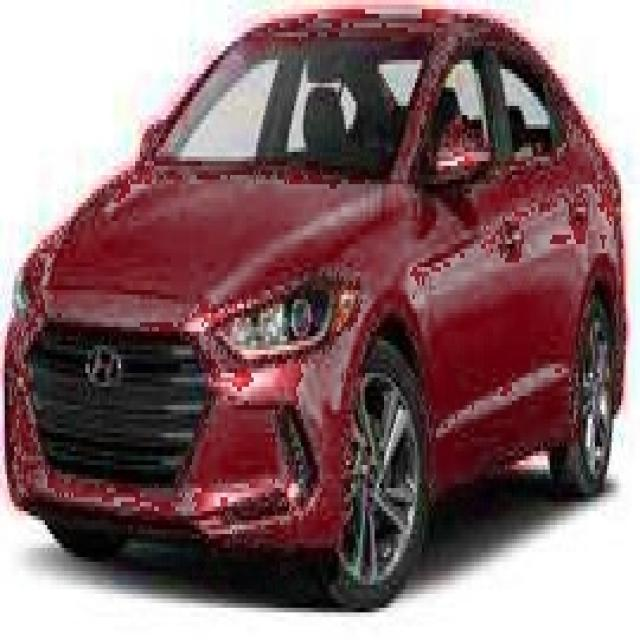maroon: (12, 2, 640, 560)
